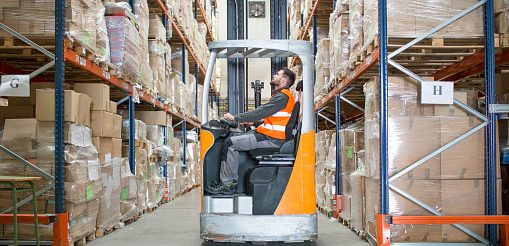noepi: (214, 67, 301, 196)
